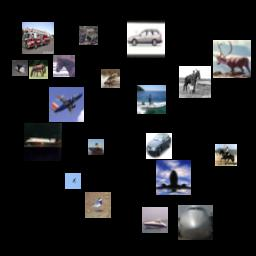airplane: (24, 123, 62, 161), (49, 87, 84, 122), (178, 205, 213, 240), (156, 160, 191, 195), (65, 173, 81, 189)
automobile: (127, 20, 165, 58), (146, 133, 172, 159)
bird: (85, 192, 111, 218)
cat: (12, 60, 28, 76)
deer: (213, 40, 251, 78)
frog: (79, 26, 98, 45), (101, 69, 120, 88)
ship: (137, 85, 166, 114), (142, 207, 168, 233), (88, 139, 104, 155)
truck: (22, 22, 54, 54)
